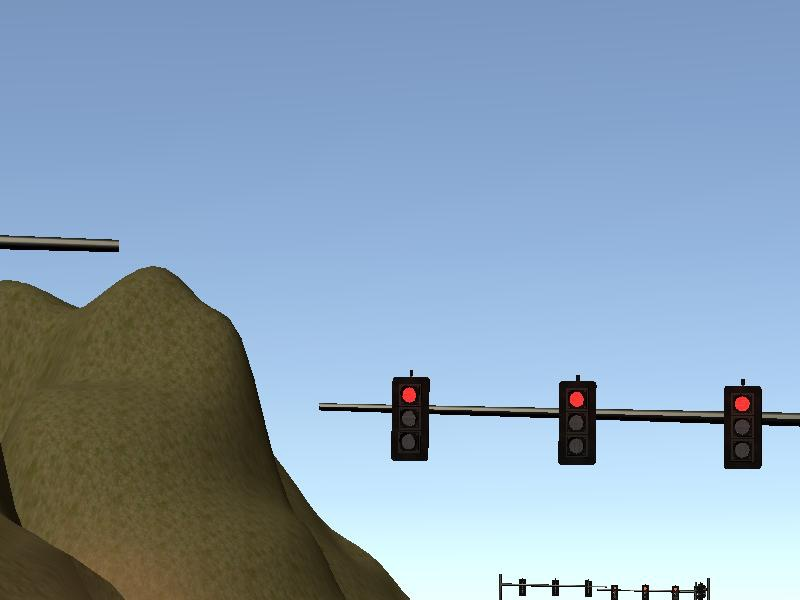red_light: (393, 377, 428, 462), (726, 386, 760, 468), (561, 382, 595, 463)
